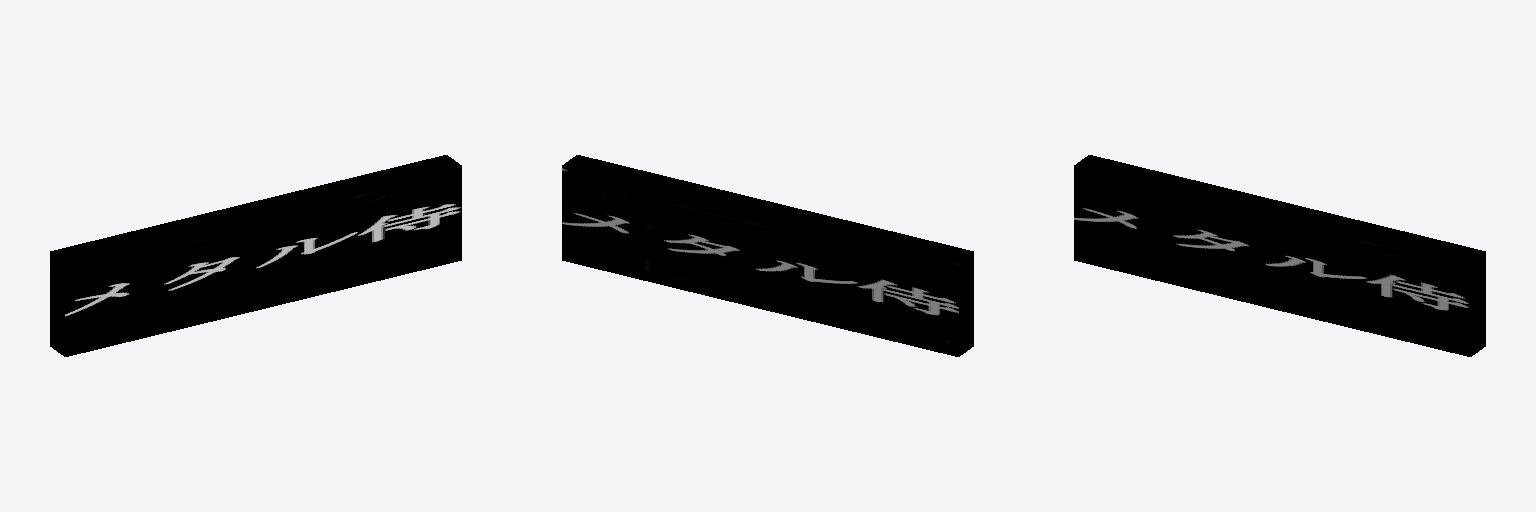
3 renders of one model, left to right at view 1: azimuth 30°, elevation 25°; view 2: azimuth 150°, elevation 25°; view 3: azimuth 330°, elevation 25°, orthographic.
Visible parts, largest first — view 1: 立方体; view 2: 立方体; view 3: 立方体.
Part boxes in pixels (left/top/right/bottom): 立方体: left=50, top=155, right=461, bottom=356; 立方体: left=562, top=155, right=973, bottom=356; 立方体: left=1074, top=155, right=1485, bottom=356.
Bounding box in the file's own units: 30 × 6.85 × 2.
Materials: 1 (1 with a texture image).